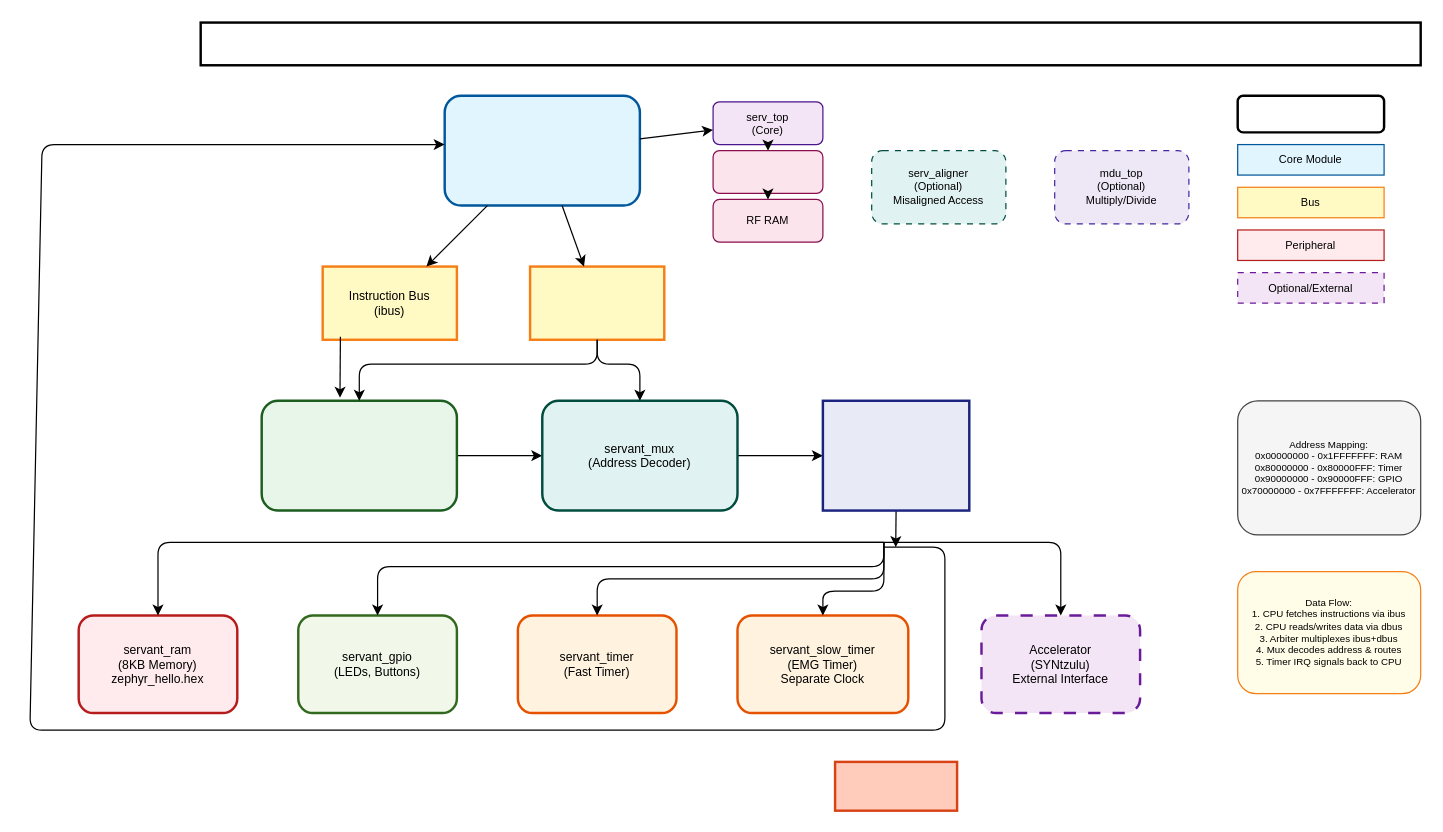
Image size: 1443x832. Some labels were removed from this diagram. The shapes that lost their labels are listed below. From the top down, each one's centre as x and y in pixels, then its label:
[810,43]: SYNtzulu Hardware Architecture Overview
[1310,113]: Legend
[541,150]: serv_rf_top (RISC-V CPU)
[767,171]: RF Interface
[596,302]: Data Bus (dbus)
[359,455]: servant_arbiter (ibus + dbus → Memory)
[895,455]: Memory Bus (Unified)
[895,785]: timer_irq
